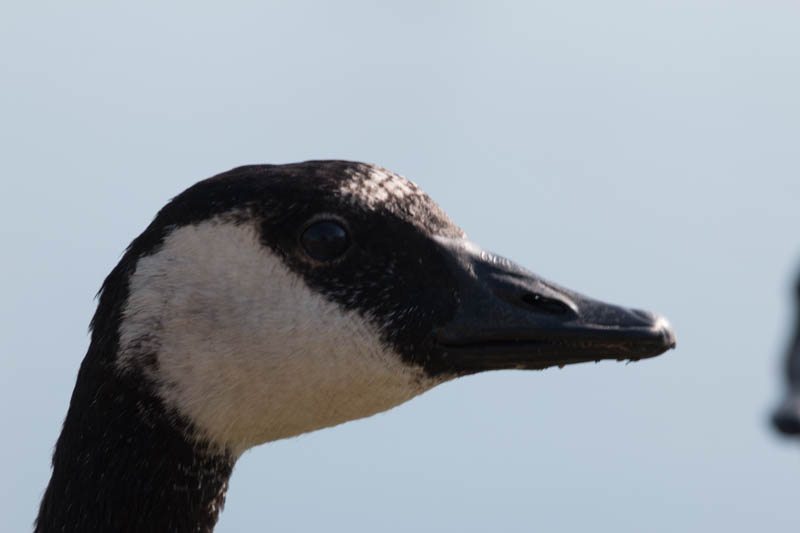goose-head: (84, 160, 678, 461)
